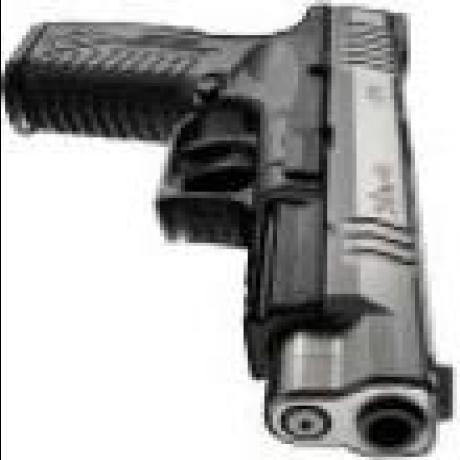weapon: (14, 7, 456, 458)
